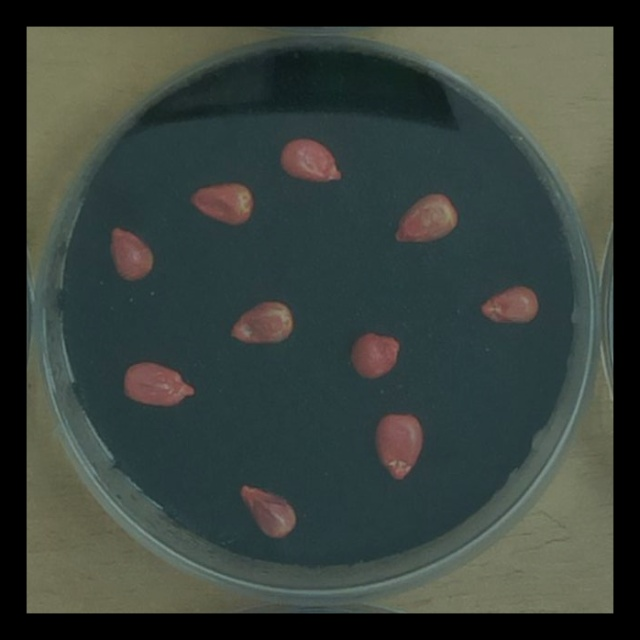Zea mays: (367, 406, 429, 487), (386, 186, 463, 251), (116, 355, 200, 414), (232, 478, 302, 544), (273, 132, 347, 190), (185, 176, 260, 233), (222, 294, 298, 350), (101, 221, 161, 286), (344, 326, 407, 386), (474, 280, 543, 331)
